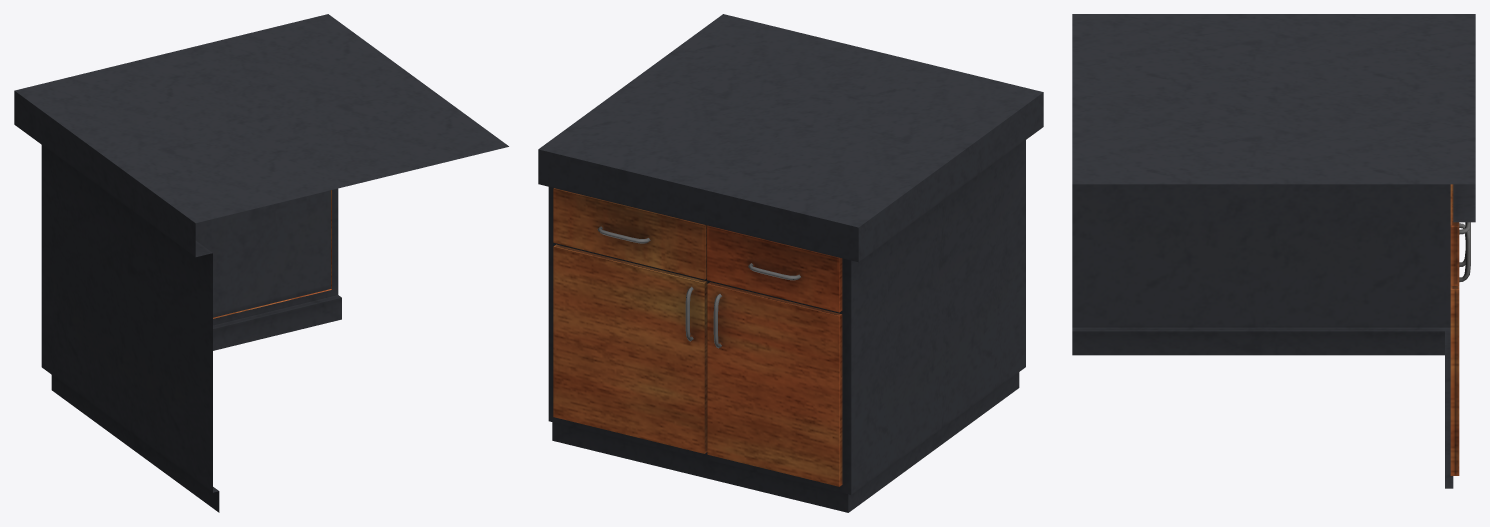
Rendered from CounterLeftV2.fbx.
3 views of the same model, side by side, from view 1: azimuth 30°, elevation 25°; view 2: azimuth 150°, elevation 25°; view 3: azimuth 270°, elevation 25° (orthographic). The views are drawn at different scales.
Parts seen in each view (by area): view 1: CounterLeftV2; view 2: CounterLeftV2; view 3: CounterLeftV2.
Part boxes in pixels (x1,y1,x2,y2): CounterLeftV2: [14, 14, 508, 512]; CounterLeftV2: [538, 14, 1043, 512]; CounterLeftV2: [1072, 14, 1475, 488].
Size of the model in its own units: 152 by 137 by 152.
